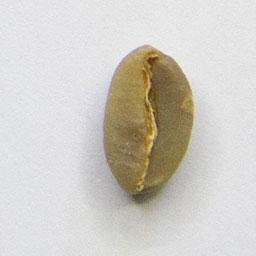longberry: (99, 42, 196, 200)
